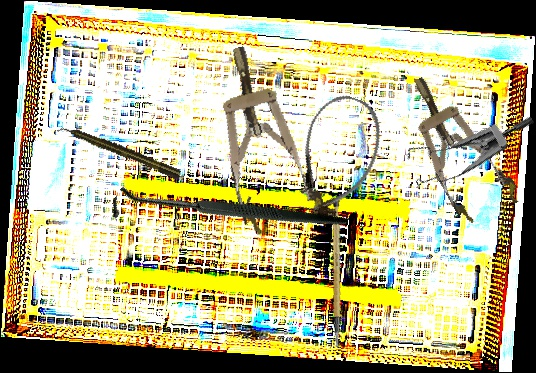Cannula: (282, 87, 393, 226)
Handpiece: (56, 120, 184, 182)
Hook Surgical: (104, 102, 350, 329)
Scalpel Handle: (310, 199, 360, 348)
Speculum: (199, 36, 329, 242), (390, 62, 524, 231), (395, 73, 536, 210)
